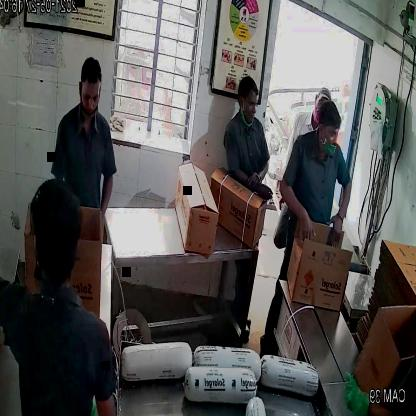no_goggles: (74, 88, 108, 113), (316, 121, 343, 146)
